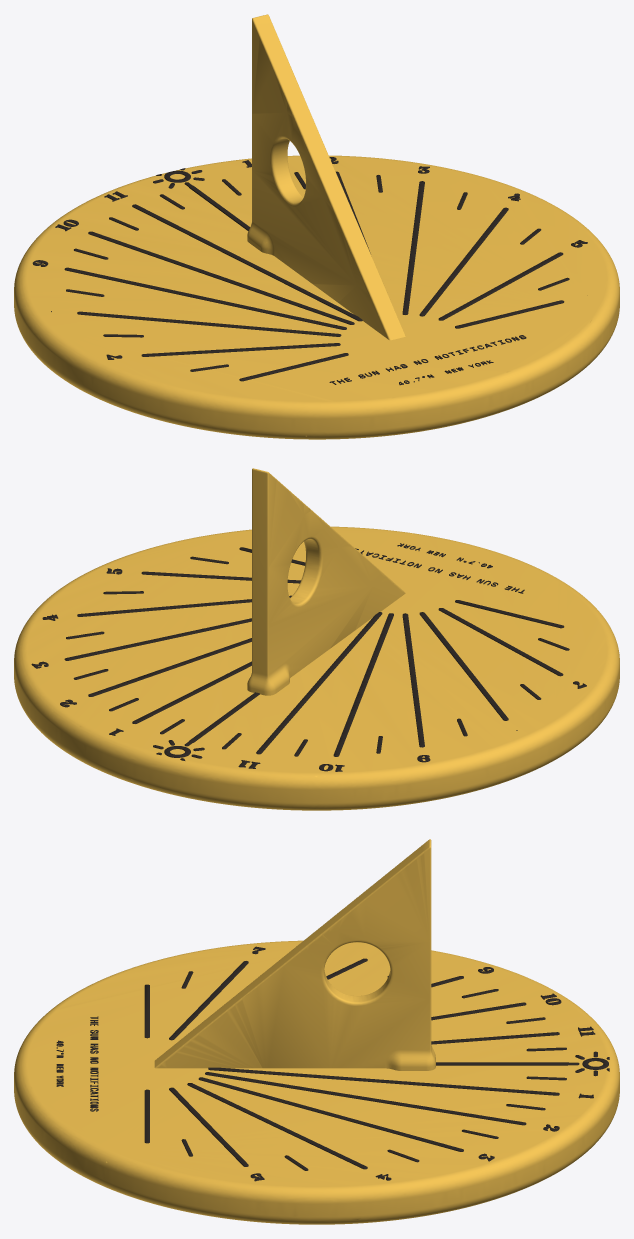
File: sundial.glb
3 views of the same model, one above another, from view 1: azimuth 30°, elevation 25°; view 2: azimuth 150°, elevation 25°; view 3: azimuth 270°, elevation 25° (orthographic).
Visible parts, largest first — view 1: sundial-plate, sundial-ink; view 2: sundial-plate, sundial-ink; view 3: sundial-plate, sundial-ink.
Part boxes in pixels (<box>): sundial-plate: <box>14,14,619,439</box>; sundial-ink: <box>32,157,587,385</box>; sundial-plate: <box>14,468,619,810</box>; sundial-ink: <box>31,543,586,771</box>; sundial-plate: <box>14,839,619,1224</box>; sundial-ink: <box>56,946,609,1181</box>.
Bounding box in the file's own units: 0.15 × 0.0705 × 0.15.
